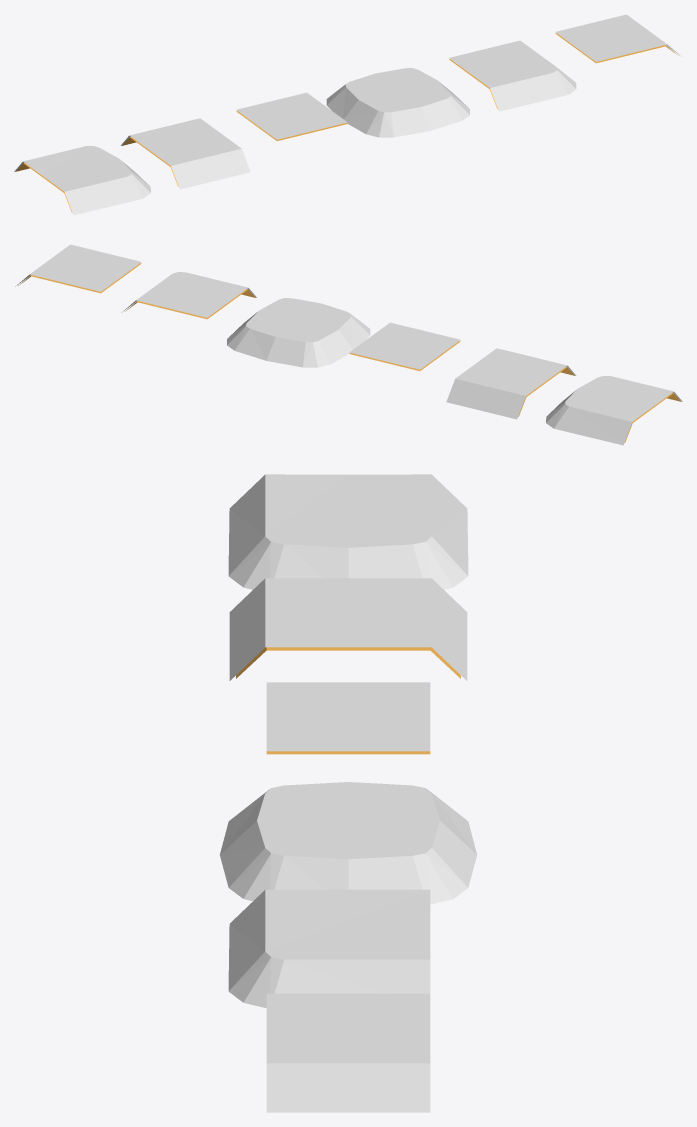
The model's file is Tileset.dae.
3 renders of one model, top to bottom at view 1: azimuth 30°, elevation 25°; view 2: azimuth 150°, elevation 25°; view 3: azimuth 270°, elevation 25°, orthographic. The views are drawn at different scales.
Visible parts, largest first — view 1: Cube.232, Cube.235, Cube.229, Cube.224, Cube.234, Cube.233; view 2: Cube.232, Cube.235, Cube.224, Cube.229, Cube.234, Cube.233; view 3: Cube.232, Cube.235, Cube.229, Cube.234, Cube.224, Cube.233.
Part boxes in pixels (x1=…): Cube.232: x1=326, y1=68, x2=469, y2=137; Cube.235: x1=14, y1=146, x2=150, y2=215; Cube.229: x1=449, y1=40, x2=576, y2=111; Cube.224: x1=120, y1=118, x2=250, y2=189; Cube.234: x1=555, y1=14, x2=681, y2=63; Cube.233: x1=236, y1=92, x2=347, y2=140; Cube.232: x1=227, y1=298, x2=370, y2=367; Cube.235: x1=546, y1=376, x2=682, y2=445; Cube.224: x1=446, y1=348, x2=576, y2=419; Cube.229: x1=121, y1=272, x2=256, y2=319; Cube.234: x1=15, y1=244, x2=141, y2=293; Cube.233: x1=349, y1=322, x2=460, y2=370; Cube.232: x1=220, y1=782, x2=476, y2=904; Cube.235: x1=228, y1=474, x2=468, y2=589; Cube.229: x1=228, y1=889, x2=430, y2=1008; Cube.234: x1=266, y1=993, x2=430, y2=1112; Cube.224: x1=229, y1=578, x2=467, y2=680; Cube.233: x1=266, y1=682, x2=430, y2=754.
Bounding box in the file's own units: 8.73 × 1.57 × 0.2323.
Materials: 2 (1 with a texture image).
